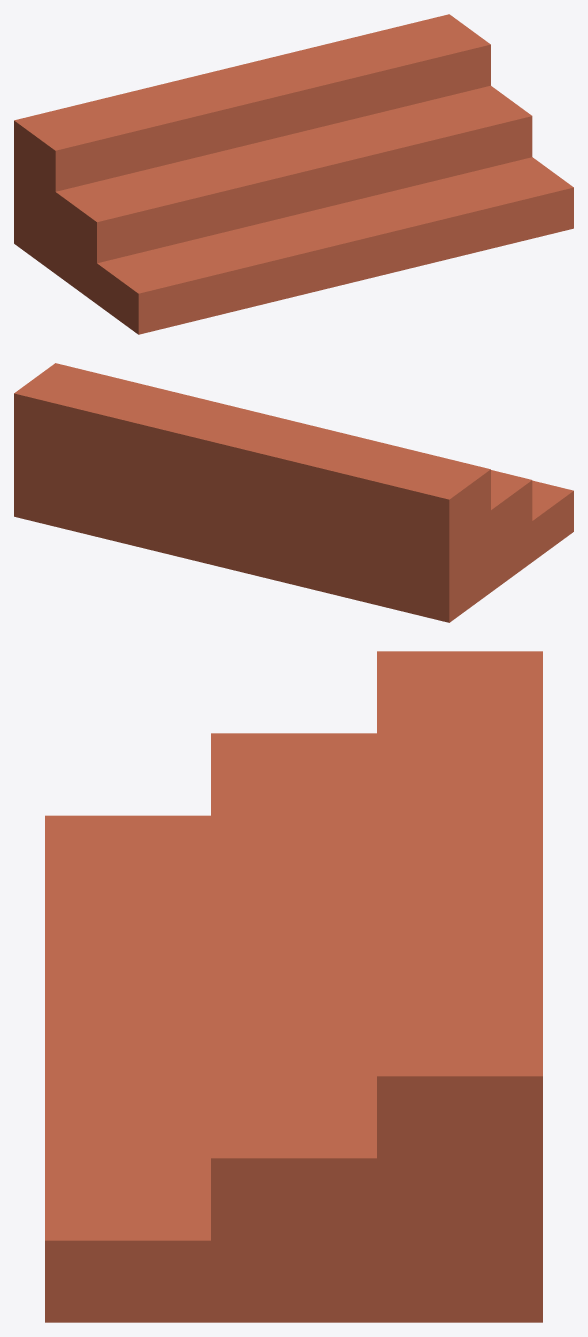
File: Stairs_032.glb
3 views of the same model, one above another, from view 1: azimuth 30°, elevation 25°; view 2: azimuth 150°, elevation 25°; view 3: azimuth 270°, elevation 25° (orthographic). The views are drawn at different scales.
Visible parts, largest first — view 1: Stairs_032; view 2: Stairs_032; view 3: Stairs_032.
Part boxes in pixels (x1,y1,x2,y2): Stairs_032: (14, 14, 573, 334); Stairs_032: (14, 363, 573, 622); Stairs_032: (45, 651, 542, 1322).
Bounding box in the file's own units: 1.62 × 0.4382 × 0.8027.
1 material, 1 textured.
